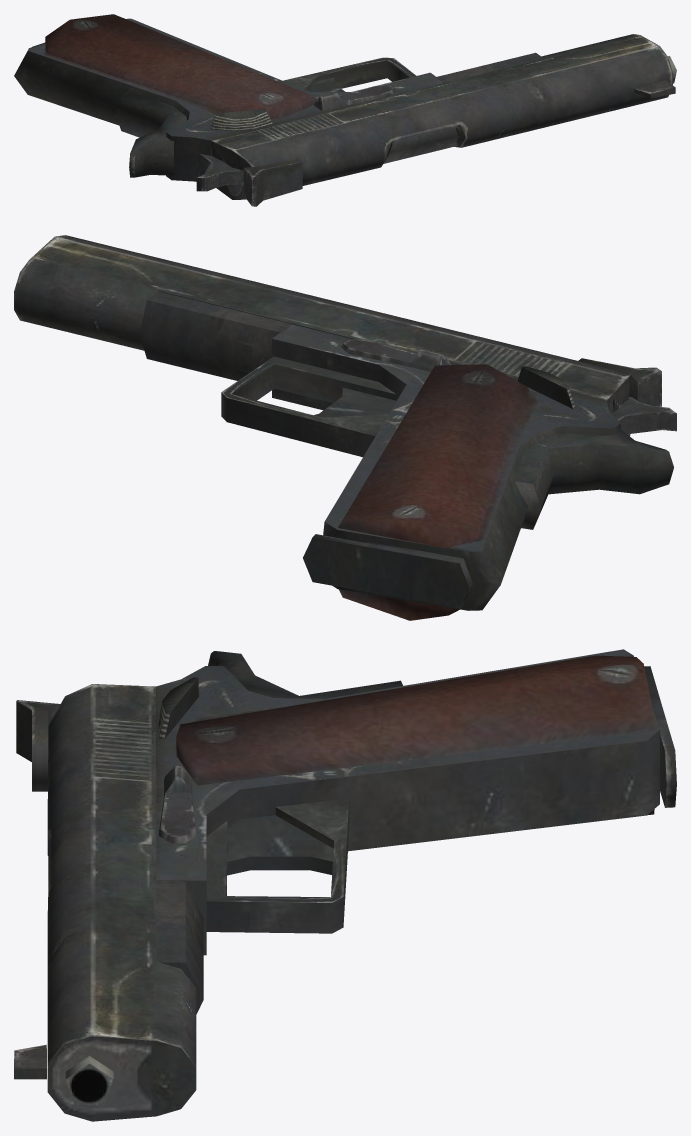
File: weapon_colt45.glb
The picture shows the model from 3 angles, top to bottom: view 1: azimuth 30°, elevation 25°; view 2: azimuth 150°, elevation 25°; view 3: azimuth 270°, elevation 25°; orthographic projection. The views are drawn at different scales.
Size of the model in its own units: 8.73 by 1.23 by 5.86.
Materials: 1 (1 with a texture image).
